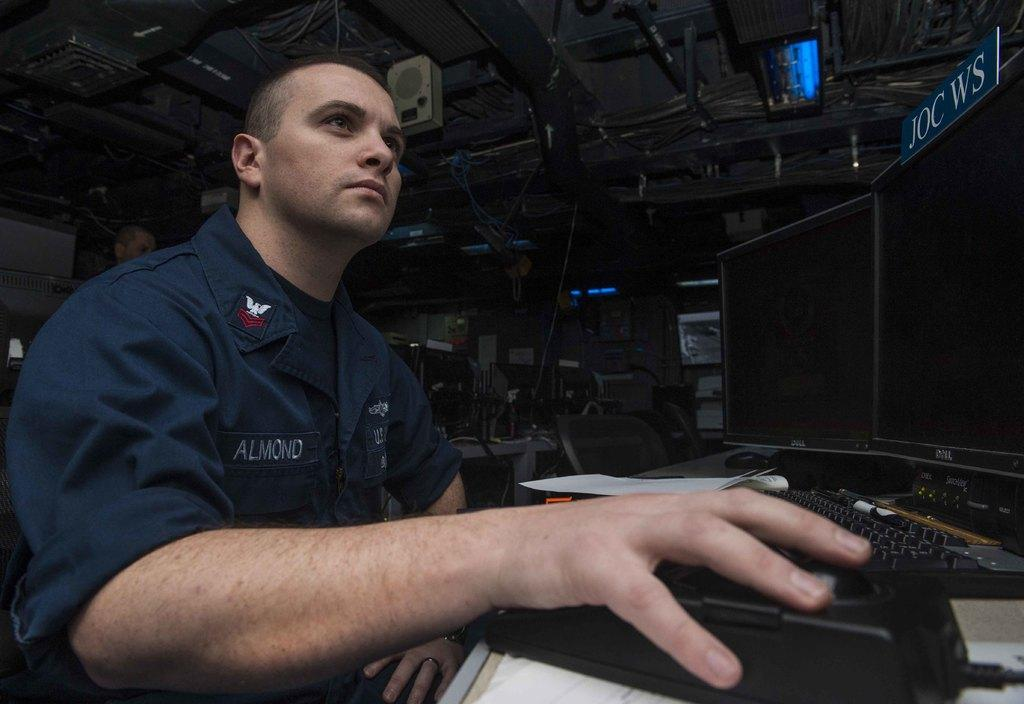Computer-keyboard: (755, 486, 1023, 598)
